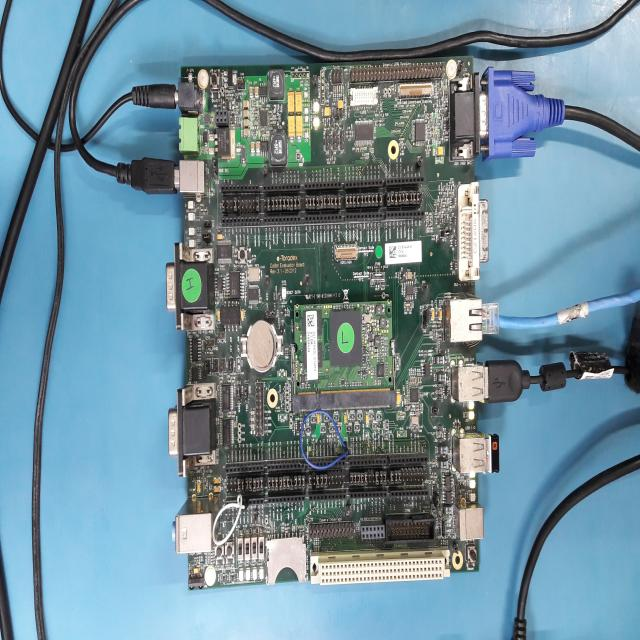som: (289, 295, 398, 403)
